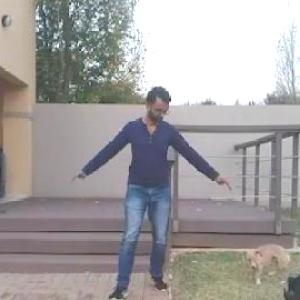land: (24, 80, 214, 299)
